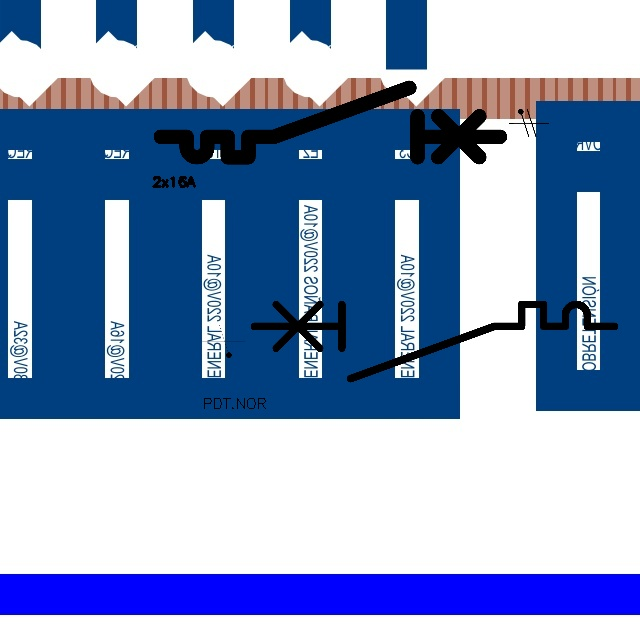interruptor_termomagnetico: (244, 295, 623, 387), (152, 79, 509, 166)
